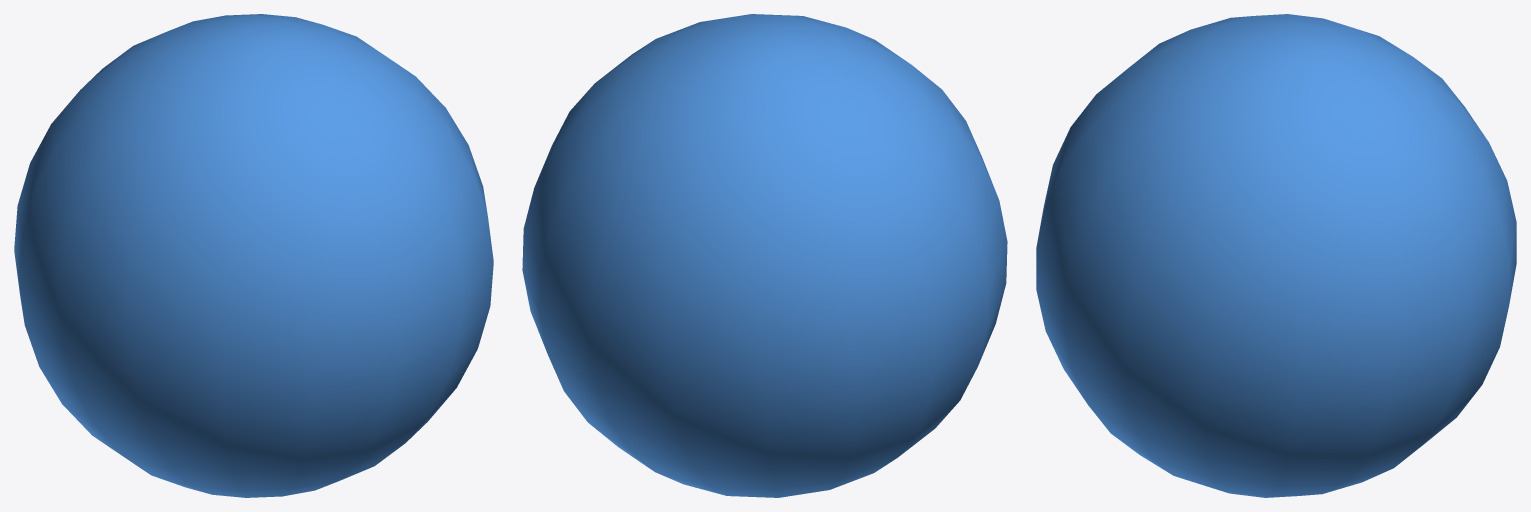
The picture shows the model from 3 angles, left to right: view 1: azimuth 30°, elevation 25°; view 2: azimuth 150°, elevation 25°; view 3: azimuth 270°, elevation 25°; orthographic projection.
Parts seen in each view (by area): view 1: orb8.004; view 2: orb8.004; view 3: orb8.004.
Part boxes in pixels (left/top/right/bottom): orb8.004: left=14, top=14, right=493, bottom=497; orb8.004: left=522, top=14, right=1007, bottom=497; orb8.004: left=1036, top=14, right=1516, bottom=497.
Size of the model in its own units: 0.397 by 0.3982 by 0.3954.
